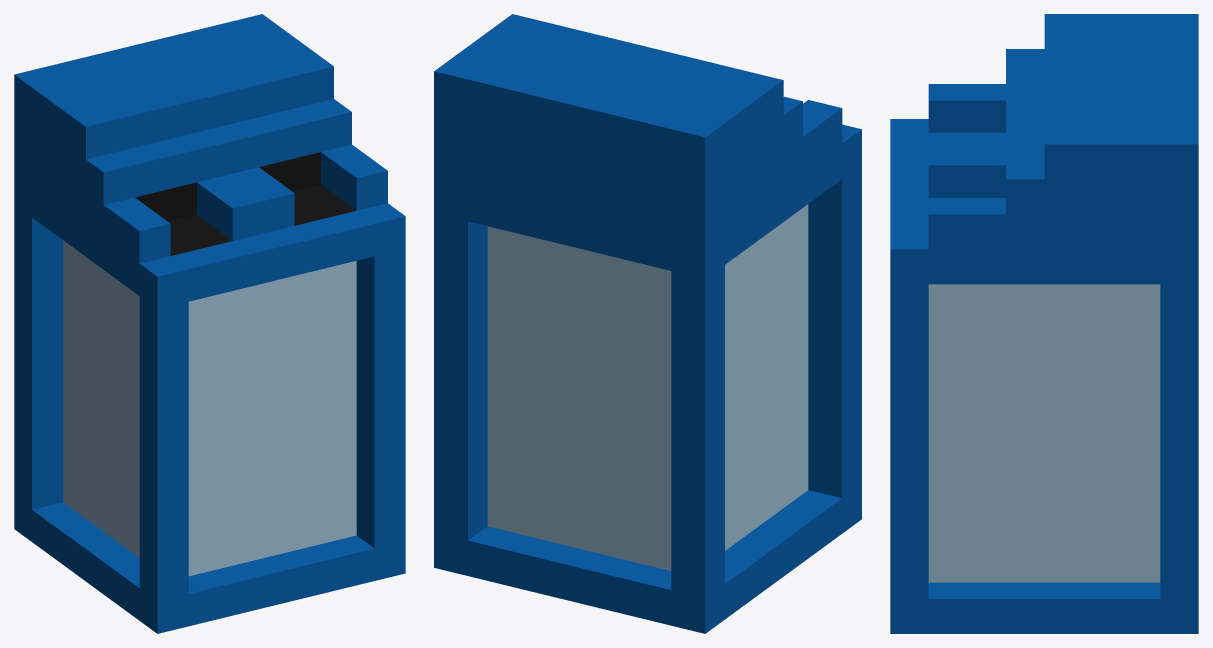
Rendered from RecycleBin.fbx.
The picture shows the model from 3 angles, left to right: view 1: azimuth 30°, elevation 25°; view 2: azimuth 150°, elevation 25°; view 3: azimuth 270°, elevation 25°; orthographic projection. The views are drawn at different scales.
Visible parts, largest first — view 1: RecycleBin; view 2: RecycleBin; view 3: RecycleBin.
Boxes of the visible parts, box(x1,y1,x2,y2) form: RecycleBin: box(14, 14, 405, 633); RecycleBin: box(434, 14, 861, 633); RecycleBin: box(890, 14, 1198, 633).
Size of the model in its own units: 0.5717 by 1 by 0.5717.
1 material, 1 textured.
